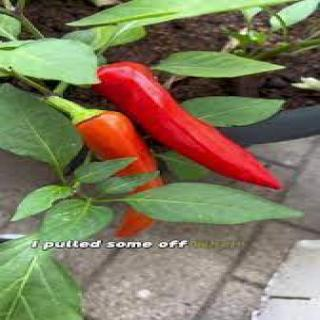Cabai Merah: (92, 62, 284, 193), (60, 101, 157, 241)
